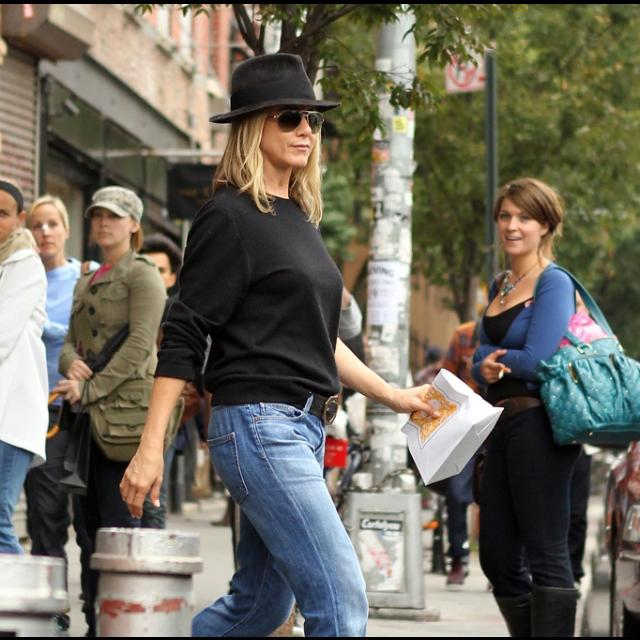head: (234, 68, 322, 170), (492, 175, 558, 257), (90, 187, 144, 250), (134, 238, 180, 298), (27, 196, 69, 258), (0, 180, 28, 244), (489, 282, 523, 322)
person: (432, 265, 542, 589), (0, 177, 58, 627)
